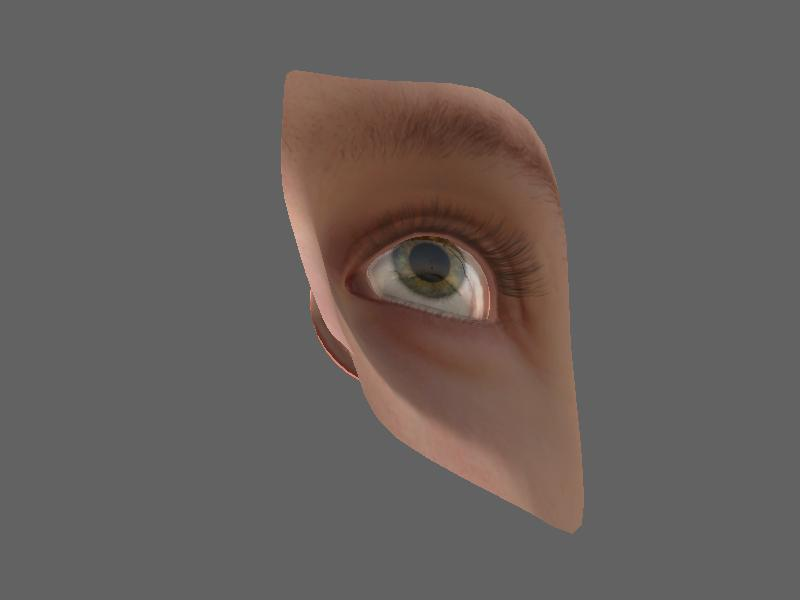iris: (390, 237, 470, 300)
